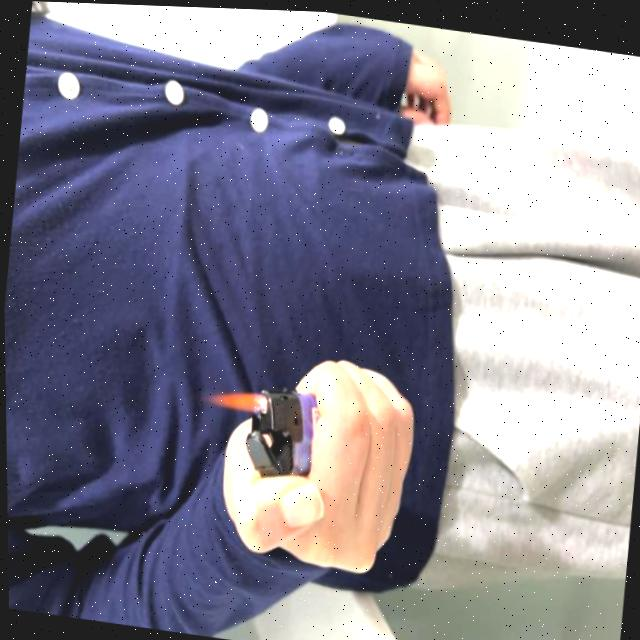Fire: (200, 381, 268, 412)
